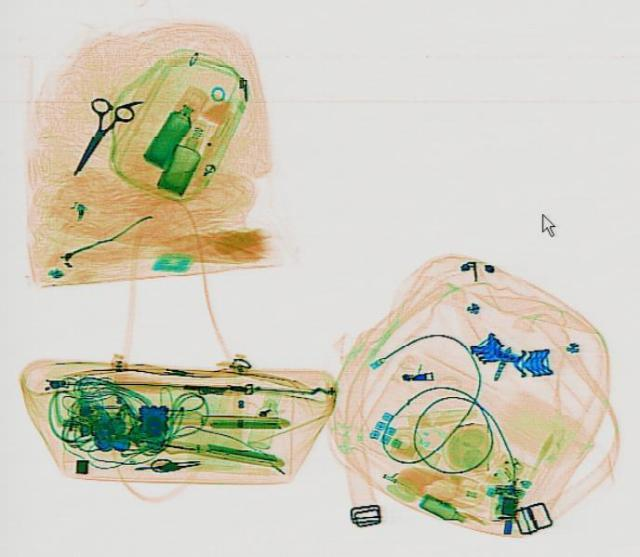Scissors: (49, 92, 137, 181)
